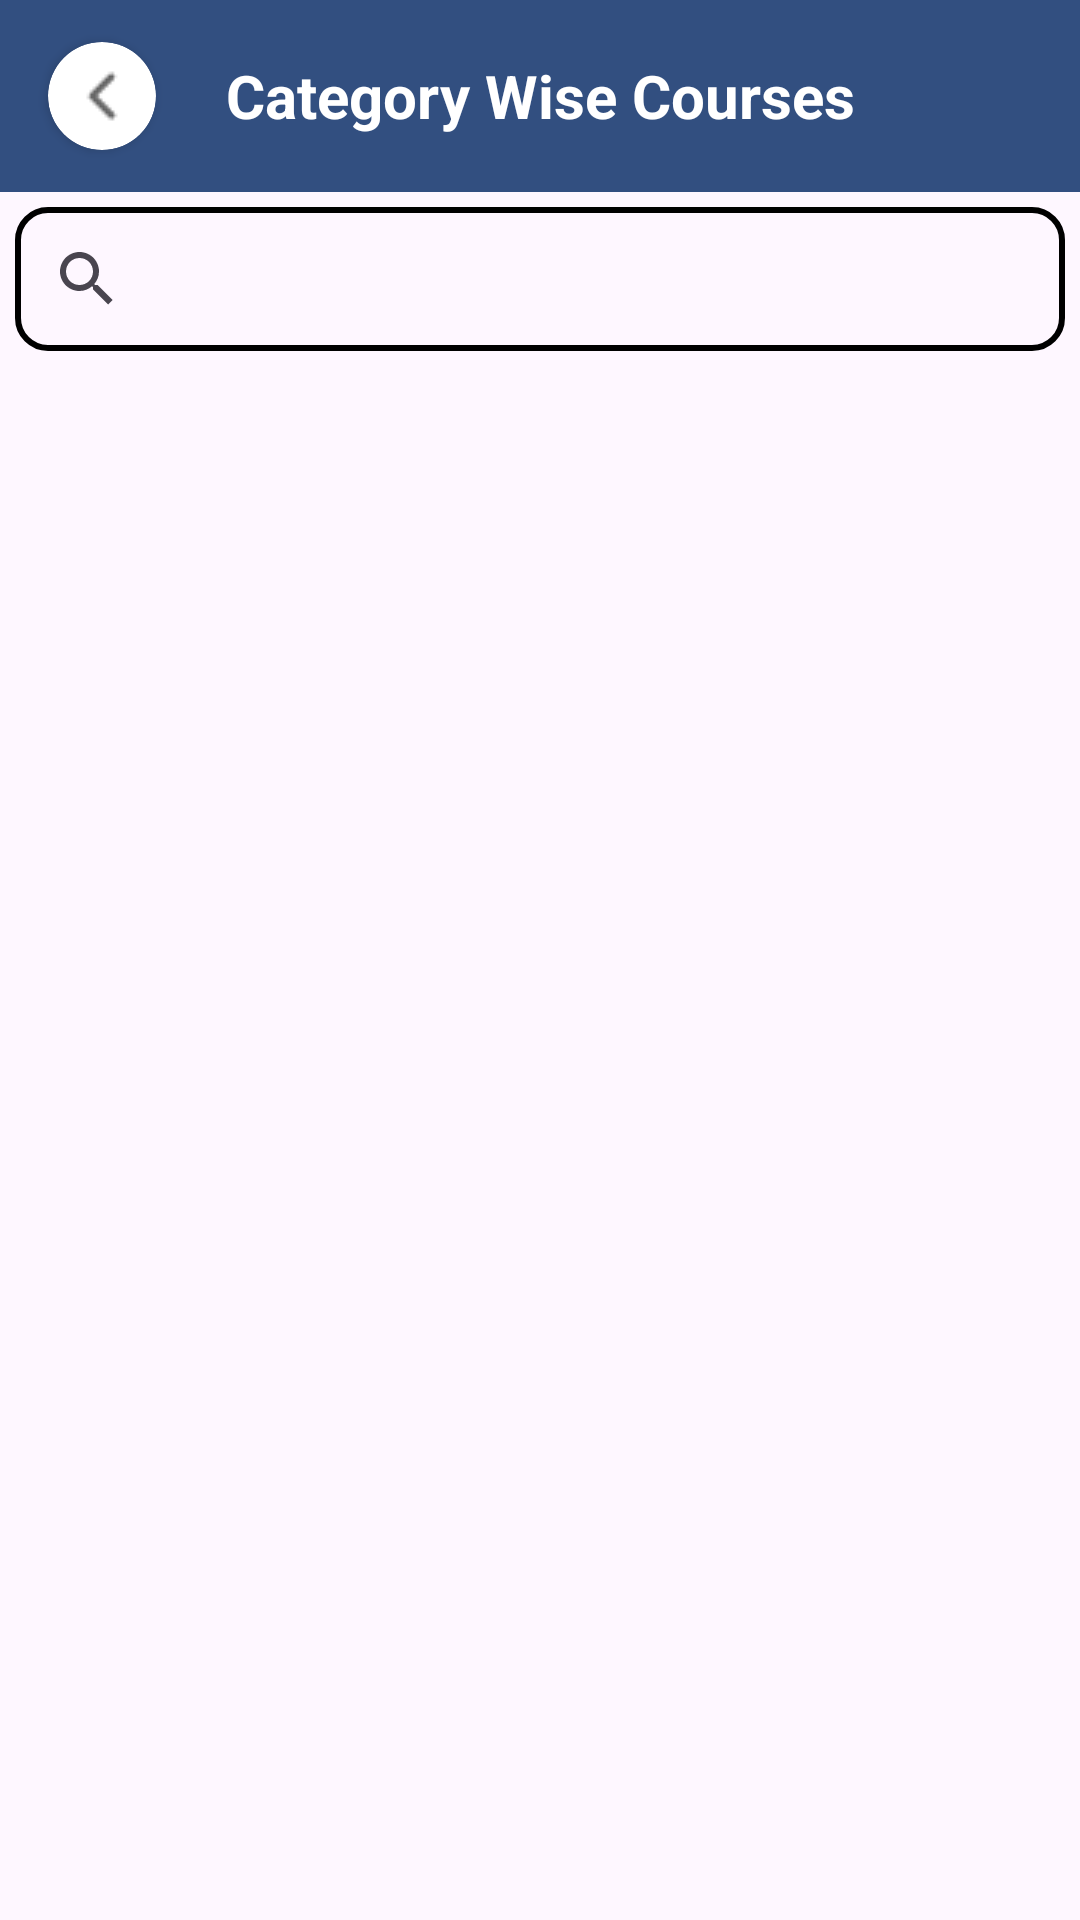

Icons on this 1080w x 1920h Android screen, each with its box as (x1, y1, x2, y2):
back toolbar: (48, 42, 156, 150)
